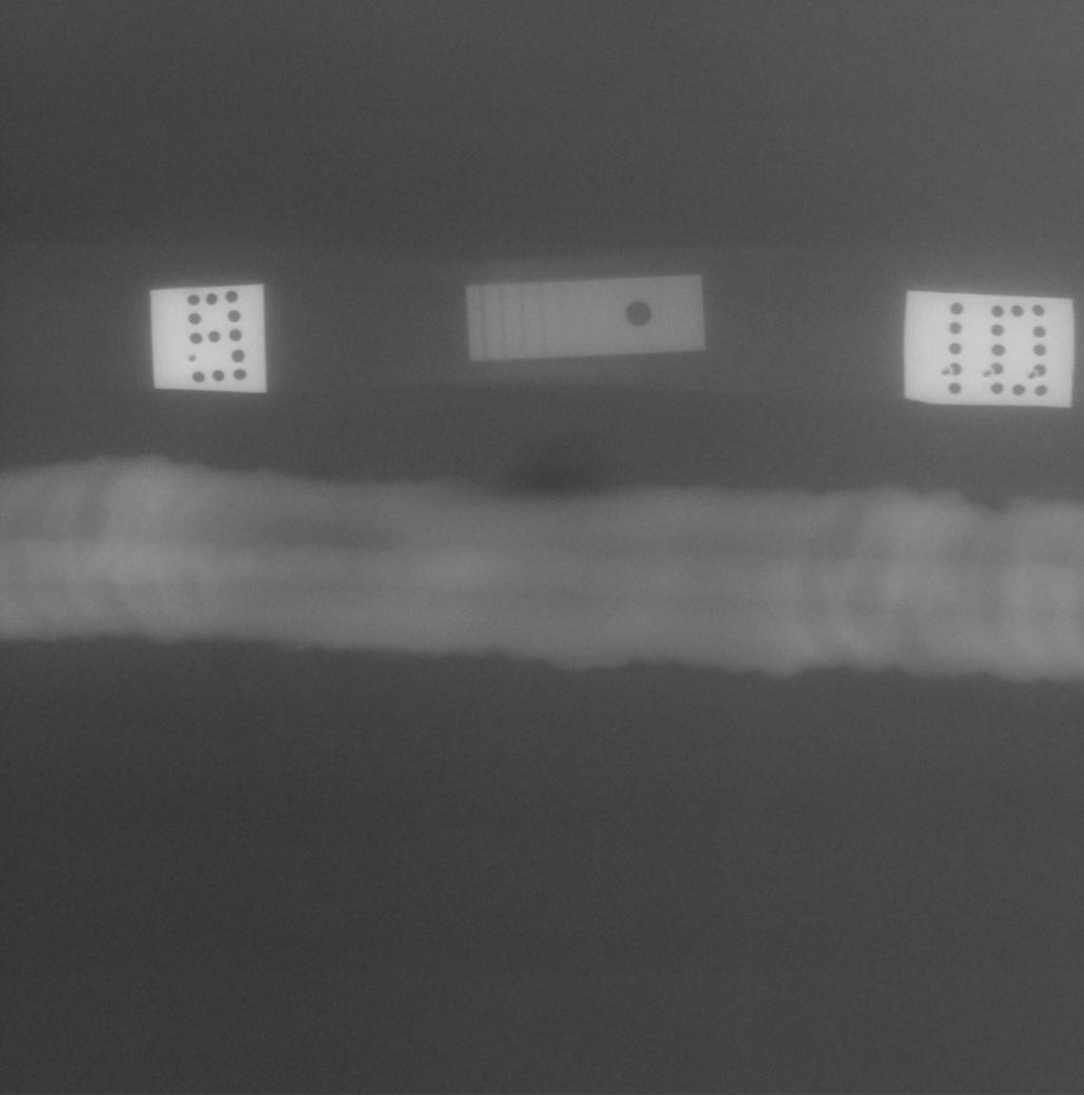Pore/Porosity: (228, 504, 233, 508)
Reference Standard 1: (465, 275, 705, 360)
